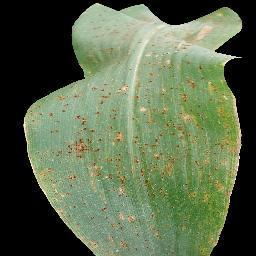Corn_Common_Rust: (17, 1, 256, 256)
